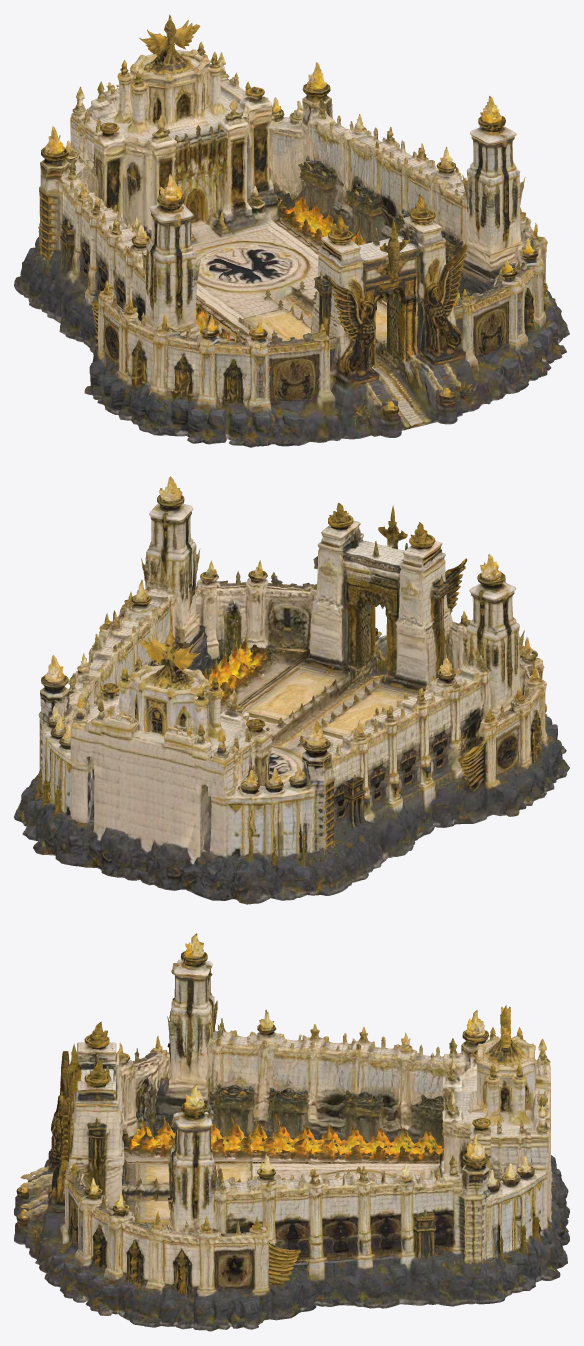
Rendered from SiyavashGate.glb.
The picture shows the model from 3 angles, top to bottom: view 1: azimuth 30°, elevation 25°; view 2: azimuth 150°, elevation 25°; view 3: azimuth 270°, elevation 25°; orthographic projection. The views are drawn at different scales.
Bounding box in the file's own units: 1.68 × 0.838 × 1.9.
1 material, 1 textured.
